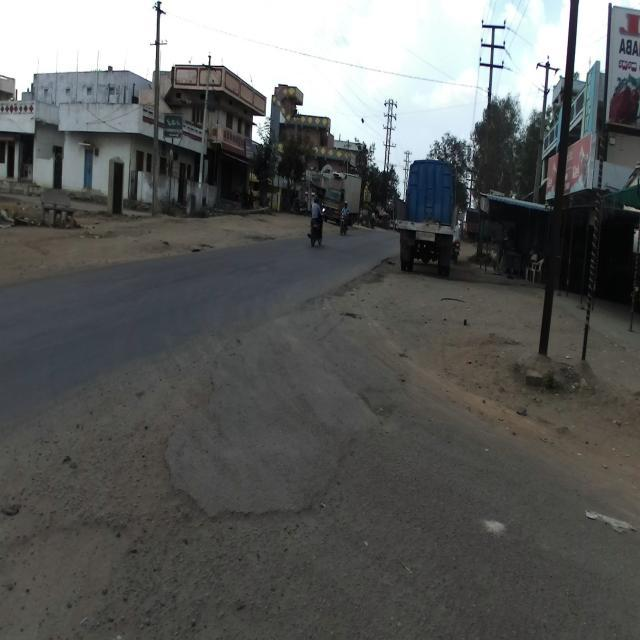Pothole: (136, 332, 341, 533), (1, 449, 153, 640), (319, 295, 414, 438)
